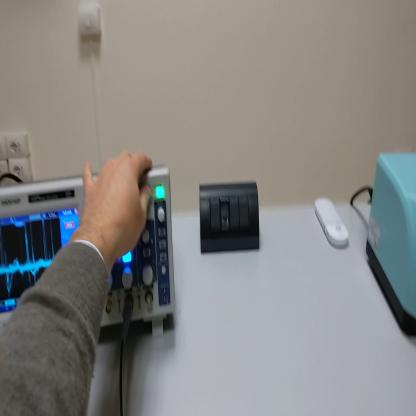hand: (78, 151, 153, 259)
oscilloscope: (1, 164, 182, 353)
welder station: (368, 151, 416, 337)
